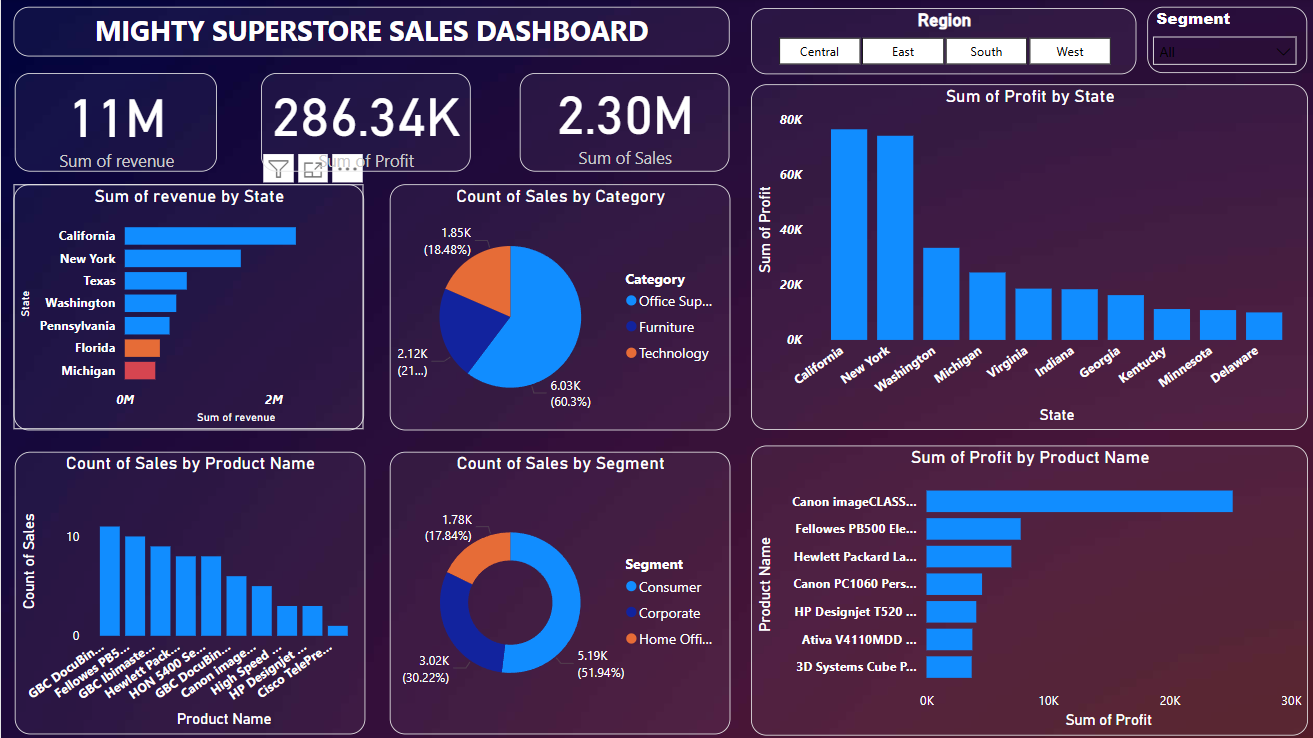

This screenshot's page, from the dashboard's own definition file:
{"tool":"powerbi","page":{"name":"Page 1","canvas":[1280,720],"ordinal":0},"visuals":[{"type":"barChart","fields":{"Y":["Sum(mybi1.revenue)"],"Category":["mybi1.State"]},"box":[12.2,179.2,338.1,237.6],"z":0},{"type":"textbox","box":[12.1,8.4,691.3,48.3],"z":1000},{"type":"barChart","fields":{"Category":["mybi1.Product Name"],"Y":["Sum(mybi1.Profit)"]},"box":[723.6,431.7,537.6,279.7],"z":2000},{"type":"pieChart","fields":{"Y":["CountNonNull(mybi1.Sales)"],"Category":["mybi1.Category"]},"box":[374.7,179.2,328.6,237.6],"z":3000},{"type":"lineClusteredColumnComboChart","fields":{"Category":["mybi1.Product Name"],"Y":["CountNonNull(mybi1.Sales)"]},"box":[13.6,438.5,338.1,272.9],"z":4000},{"type":"donutChart","fields":{"Category":["mybi1.Segment"],"Y":["CountNonNull(mybi1.Sales)"]},"box":[374.7,438.5,328.6,272.9],"z":5000},{"type":"lineClusteredColumnComboChart","fields":{"Y":["Sum(mybi1.Profit)"],"Category":["mybi1.State"]},"box":[723.6,82.8,537.6,334],"z":6000},{"type":"card","fields":{"Values":["Sum(mybi1.revenue)"]},"box":[13.3,72.4,195.4,95.3],"z":7000},{"type":"card","fields":{"Values":["Sum(mybi1.Profit)"]},"box":[251.2,72,202.3,95],"z":8000},{"type":"card","fields":{"Values":["Sum(mybi1.Sales)"]},"box":[500.7,72.4,202.7,95.3],"z":9000},{"type":"slicer","title":"Region","fields":{"Values":["mybi1.Region"]},"box":[723.6,9.5,372,63.8],"z":10000},{"type":"slicer","title":"Region","fields":{"Values":["mybi1.Segment"]},"box":[1106.5,8.1,154.8,63.8],"z":11000}]}

Visuals, with their boxes in screenshot pixels (x1, y1, x2, y2), scaled from the page's 1280x720 canvas onto the 1313x738 screenshot:
barChart - Sum(mybi1.revenue) x mybi1.State: detection(13, 184, 359, 427)
textbox: detection(12, 9, 722, 58)
barChart - mybi1.Product Name x Sum(mybi1.Profit): detection(742, 442, 1294, 729)
pieChart - CountNonNull(mybi1.Sales) x mybi1.Category: detection(384, 184, 721, 427)
lineClusteredColumnComboChart - mybi1.Product Name x CountNonNull(mybi1.Sales): detection(14, 449, 361, 729)
donutChart - mybi1.Segment x CountNonNull(mybi1.Sales): detection(384, 449, 721, 729)
lineClusteredColumnComboChart - Sum(mybi1.Profit) x mybi1.State: detection(742, 85, 1294, 427)
card - Sum(mybi1.revenue): detection(14, 74, 214, 172)
card - Sum(mybi1.Profit): detection(258, 74, 465, 171)
card - Sum(mybi1.Sales): detection(514, 74, 722, 172)
"Region" slicer: detection(742, 10, 1124, 75)
"Region" slicer: detection(1135, 8, 1294, 74)
